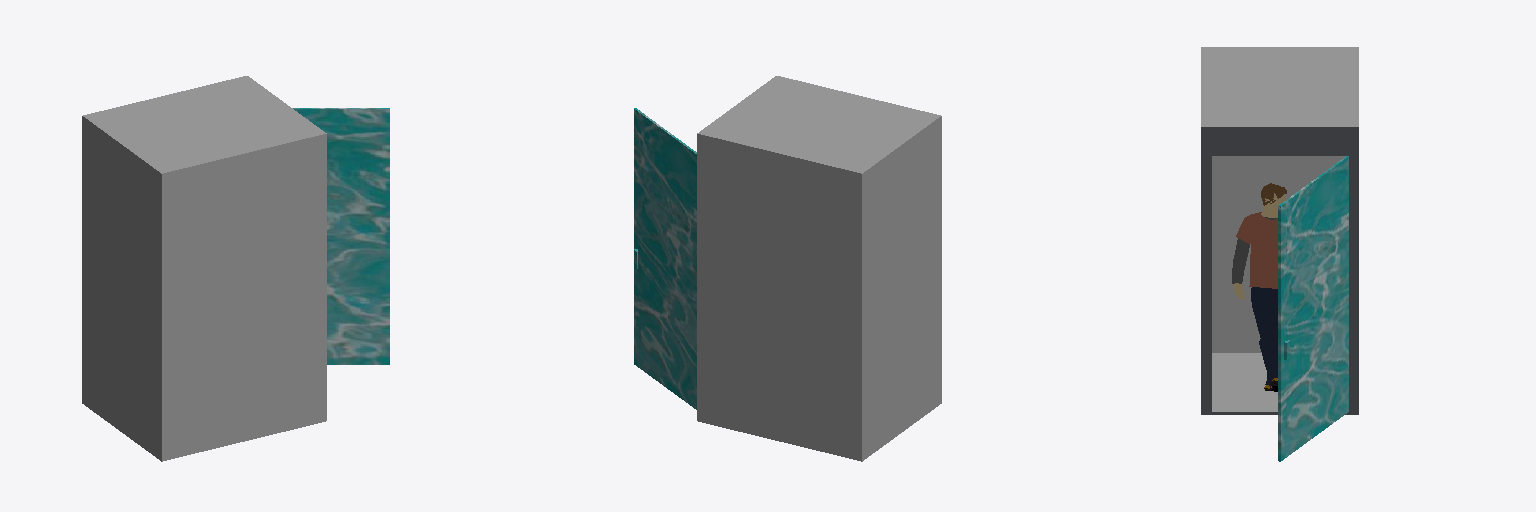
The picture shows the model from 3 angles: view 1: azimuth 30°, elevation 25°; view 2: azimuth 150°, elevation 25°; view 3: azimuth 270°, elevation 25°; orthographic projection.
Visible parts, largest first — view 1: Mesh2 shower_frame1 Model, Mesh3 shower_door1 Model; view 2: Mesh2 shower_frame1 Model, Mesh3 shower_door1 Model; view 3: Mesh2 shower_frame1 Model, Mesh3 shower_door1 Model, Mesh1 Bryce1 Model.
Part boxes in pixels (x1,y1,x2,y2): Mesh2 shower_frame1 Model: (82, 76, 326, 461); Mesh3 shower_door1 Model: (293, 108, 389, 364); Mesh2 shower_frame1 Model: (697, 76, 941, 461); Mesh3 shower_door1 Model: (634, 108, 696, 409); Mesh2 shower_frame1 Model: (1201, 47, 1358, 414); Mesh3 shower_door1 Model: (1278, 156, 1348, 461); Mesh1 Bryce1 Model: (1232, 183, 1286, 391).
Size of the model in its own units: 2.44 by 2.5 by 1.25.
Materials: 12 (1 with a texture image).